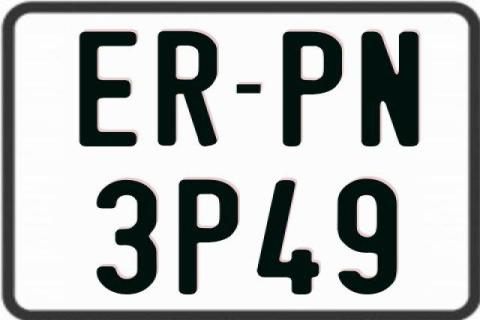0: (254, 179, 318, 299), (337, 177, 399, 293), (95, 180, 156, 297)
E: (77, 30, 139, 150)
N: (360, 31, 423, 149)
P: (176, 178, 240, 298), (280, 29, 344, 145)
R: (158, 30, 220, 146)
